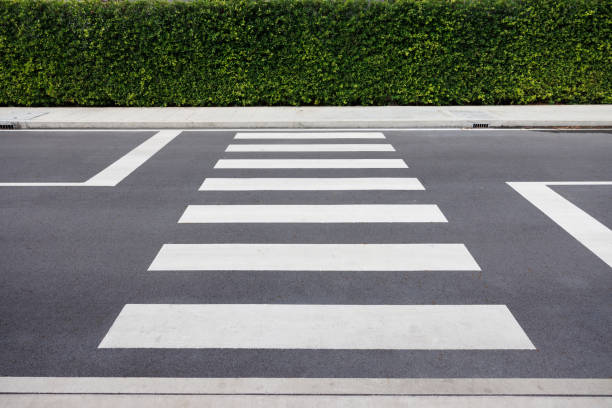zebracross: (160, 133, 474, 370)
